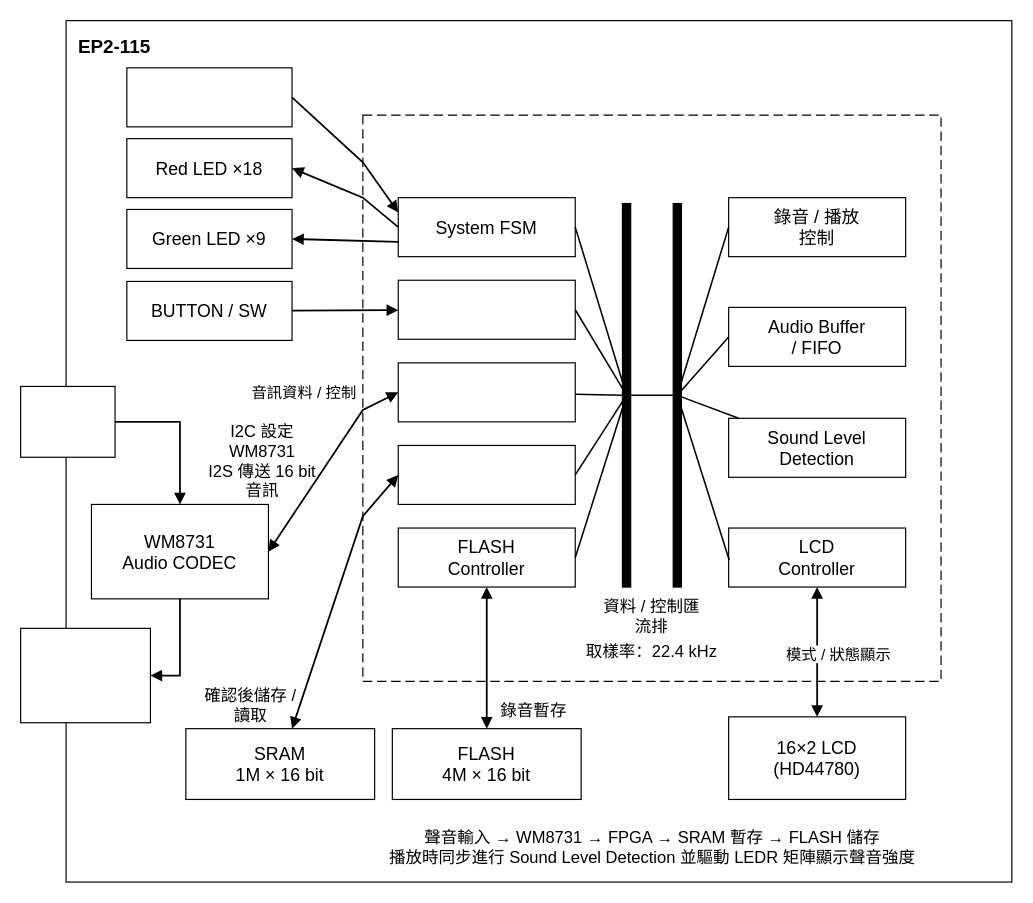
The diagram is 1033 pixels wide and 903 high, and some of its shapes have lost their labels. The shapes that lost their labels are listed below. From the top down, each one's box as (x1, y1, x2, y2) in pixels, then its label:
(126, 67, 292, 127): CLOCK / RESET
(397, 279, 575, 339): 按鍵 / SW 防彈跳控制
(397, 362, 575, 422): Audio 控制 (I2C / I2S)
(362, 114, 941, 681): EP4CE115F29C7
(19, 385, 115, 457): Mic / Line-in
(397, 444, 575, 504): SRAM Controller
(19, 627, 150, 723): Speaker / Headphone / Line-out
